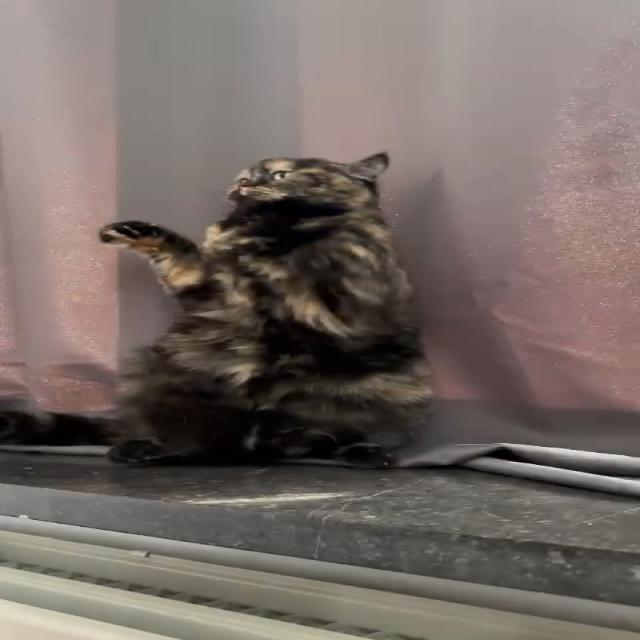authorized: (96, 150, 436, 469)
